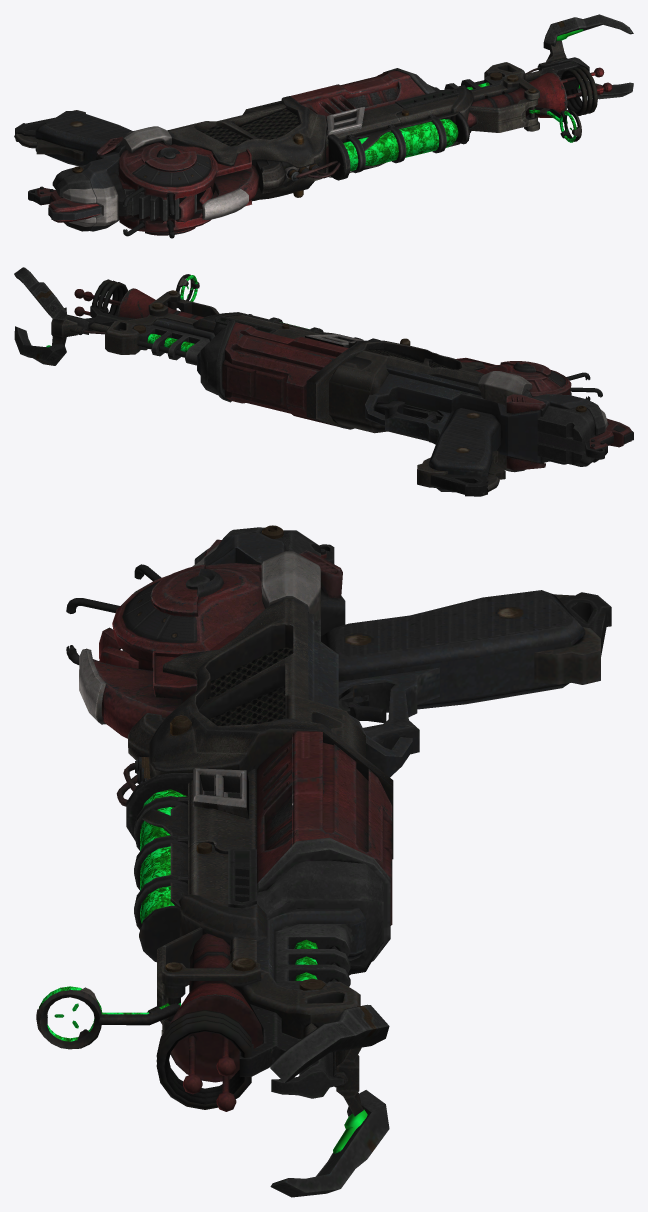
File: raygun_mark2.obj
3 views of the same model, one above another, from view 1: azimuth 30°, elevation 25°; view 2: azimuth 150°, elevation 25°; view 3: azimuth 270°, elevation 25° (orthographic). The views are drawn at different scales.
Visible parts, largest first — view 1: TomGroup_3, TomGroup_0, TomGroup_1, TomGroup_2; view 2: TomGroup_3, TomGroup_0, TomGroup_1; view 3: TomGroup_3, TomGroup_0, TomGroup_1, TomGroup_2.
Part boxes in pixels (x1=…): TomGroup_3: x1=14, y1=14, x2=633, y2=235; TomGroup_0: x1=15, y1=40, x2=597, y2=238; TomGroup_1: x1=343, y1=29, x2=583, y2=171; TomGroup_2: x1=201, y1=109, x2=299, y2=146; TomGroup_3: x1=14, y1=267, x2=631, y2=492; TomGroup_0: x1=51, y1=279, x2=633, y2=496; TomGroup_1: x1=46, y1=275, x2=309, y2=351; TomGroup_3: x1=36, y1=527, x2=600, y2=1197; TomGroup_0: x1=66, y1=525, x2=611, y2=1116; TomGroup_1: x1=38, y1=789, x2=367, y2=1153; TomGroup_2: x1=208, y1=647, x2=293, y2=725.
Size of the model in its own units: 2.53 by 0.3821 by 1.05.
3 materials, 3 textured.
